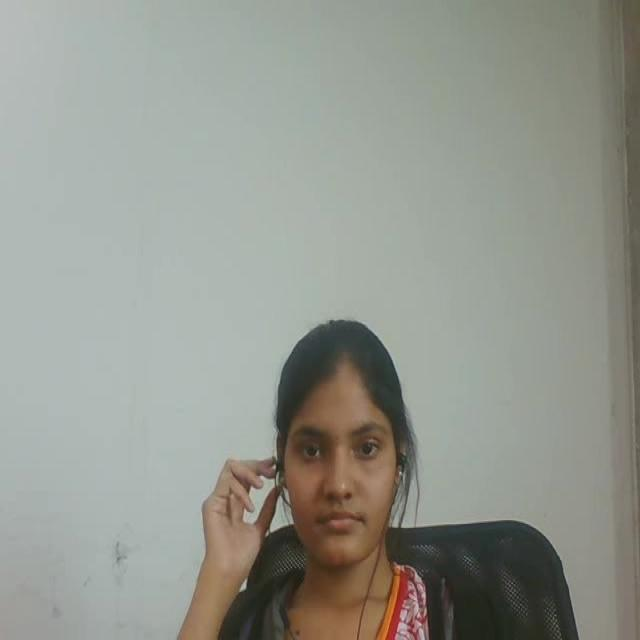Engaged: (257, 308, 433, 584)
